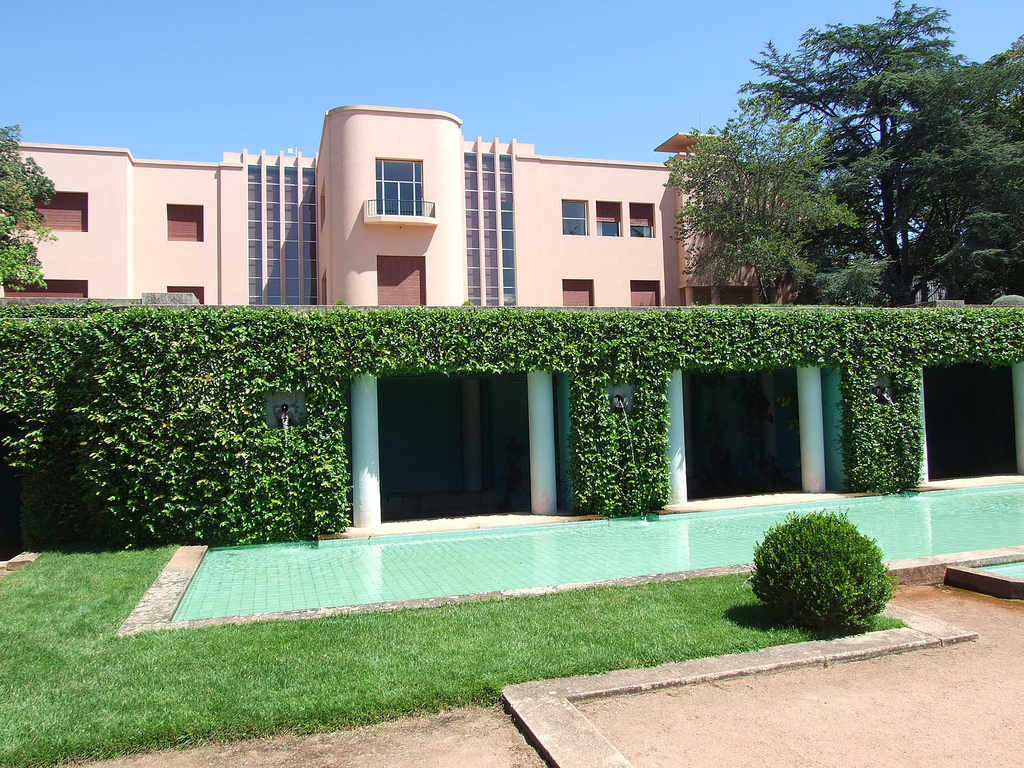serralves: (0, 103, 815, 307)
